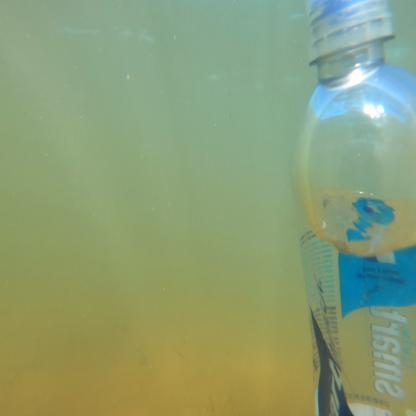Rác: (302, 3, 415, 415)
